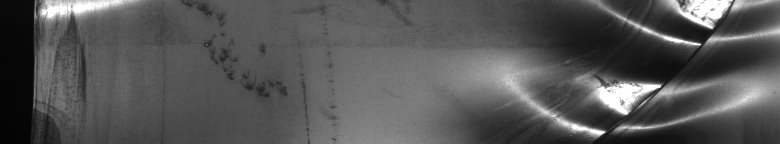ke: (531, 4, 776, 136)
